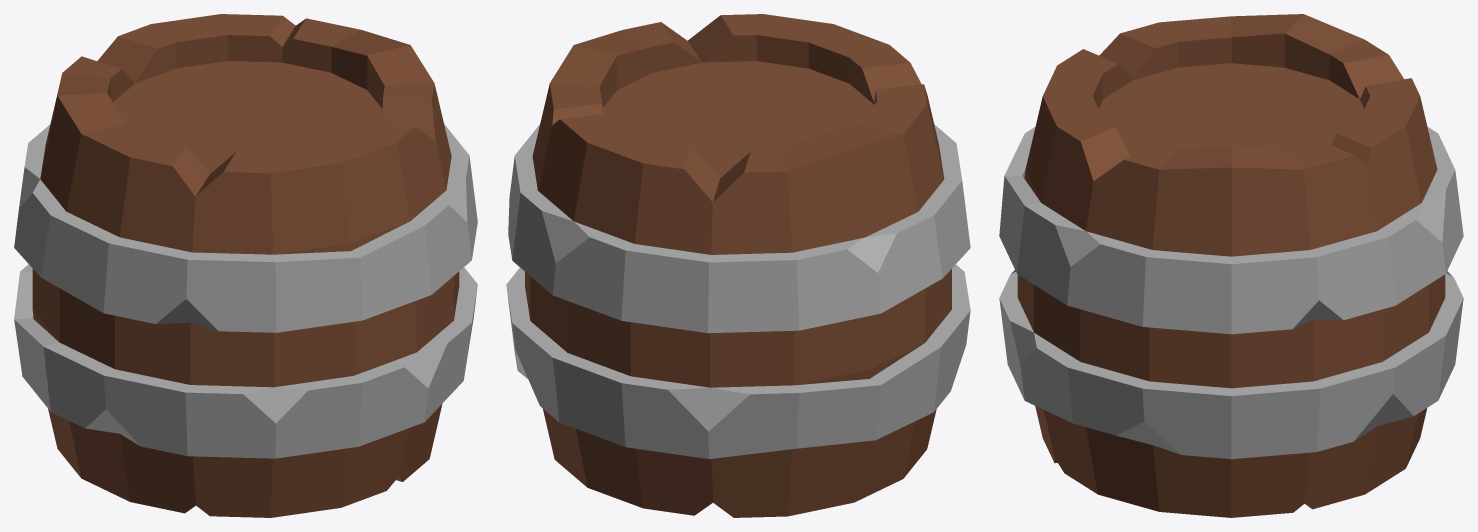
The model's file is barel.fbx.
3 renders of one model, left to right at view 1: azimuth 30°, elevation 25°; view 2: azimuth 150°, elevation 25°; view 3: azimuth 270°, elevation 25°, orthographic.
Visible parts, largest first — view 1: barel; view 2: barel; view 3: barel.
Part boxes in pixels (bbox=[...]): barel: bbox=[14, 14, 477, 517]; barel: bbox=[506, 14, 970, 517]; barel: bbox=[999, 14, 1463, 517].
Size of the model in its own units: 83.19 by 68.92 by 82.76.
